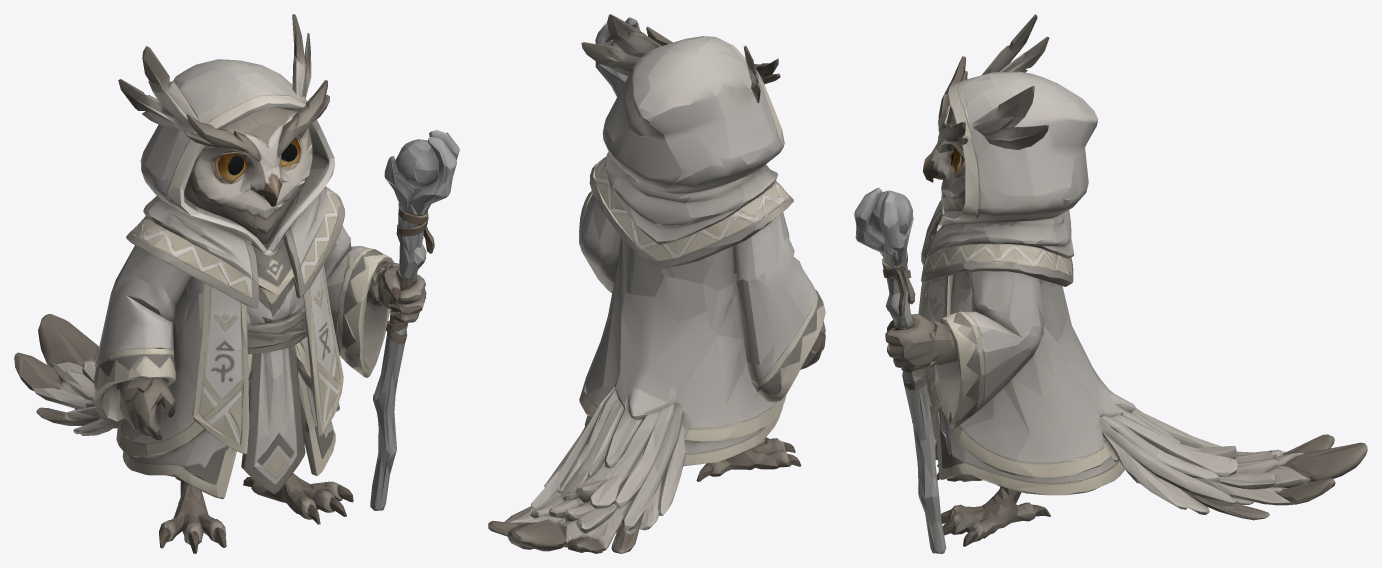
3 views of the same model, side by side, from view 1: azimuth 30°, elevation 25°; view 2: azimuth 150°, elevation 25°; view 3: azimuth 270°, elevation 25° (orthographic). The views are drawn at different scales.
Size of the model in its own units: 1.21 by 1.85 by 1.9.
Materials: 1 (1 with a texture image).
